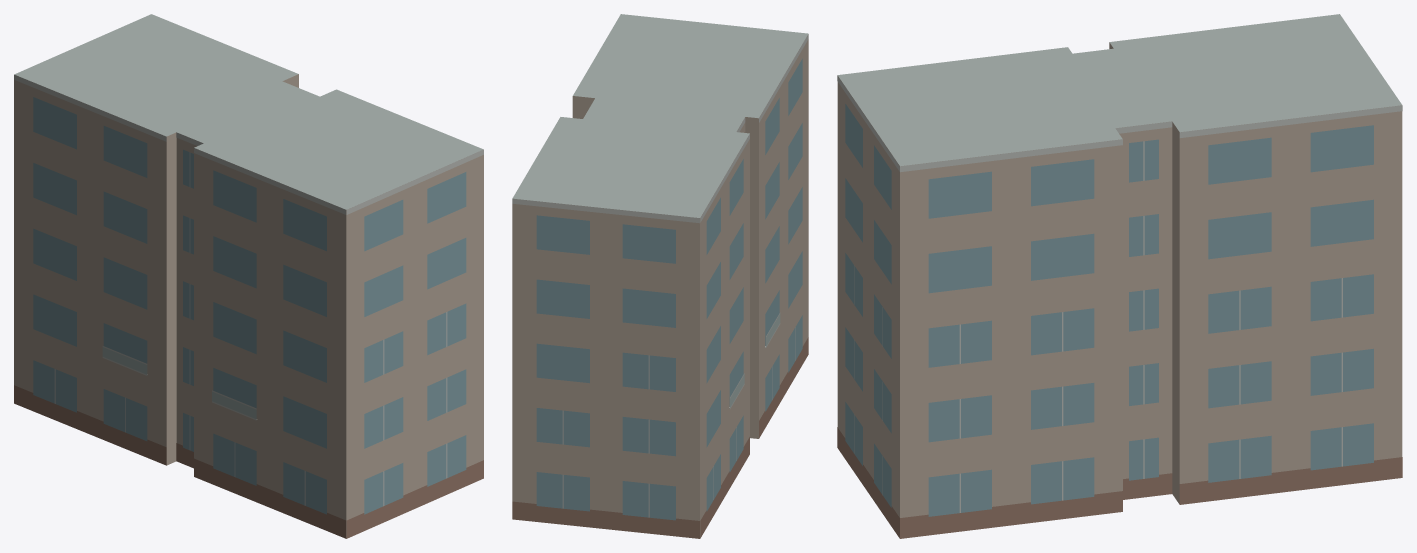
Rendered from survey-upis-32962909.glb.
The picture shows the model from 3 angles, left to right: view 1: azimuth 30°, elevation 25°; view 2: azimuth 150°, elevation 25°; view 3: azimuth 270°, elevation 25°; orthographic projection. The views are drawn at different scales.
Visible parts, largest first — view 1: survey-upis-32962909.tmp; view 2: survey-upis-32962909.tmp; view 3: survey-upis-32962909.tmp.
Part boxes in pixels (x1=…): survey-upis-32962909.tmp: x1=14, y1=14, x2=483, y2=538; survey-upis-32962909.tmp: x1=512, y1=14, x2=808, y2=538; survey-upis-32962909.tmp: x1=837, y1=14, x2=1402, y2=538.
Bounding box in the file's own units: 13.37 × 15.25 × 20.97.
